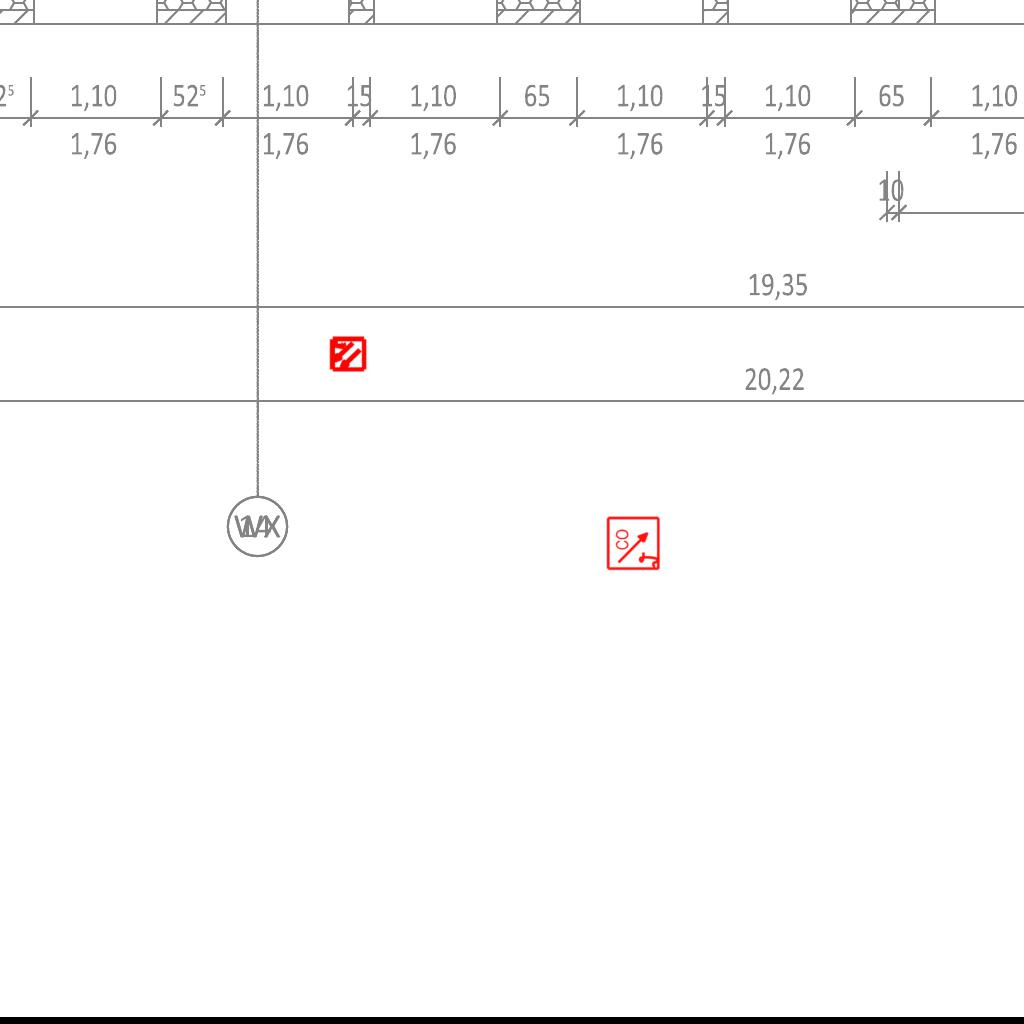OT_Multisensormelder_(Kombination_RMO_WMD): (319, 326, 375, 382)
ROA_Rauchmelder_optisch_mit_Signalgeber_(Sockelsirene): (606, 515, 662, 571)
